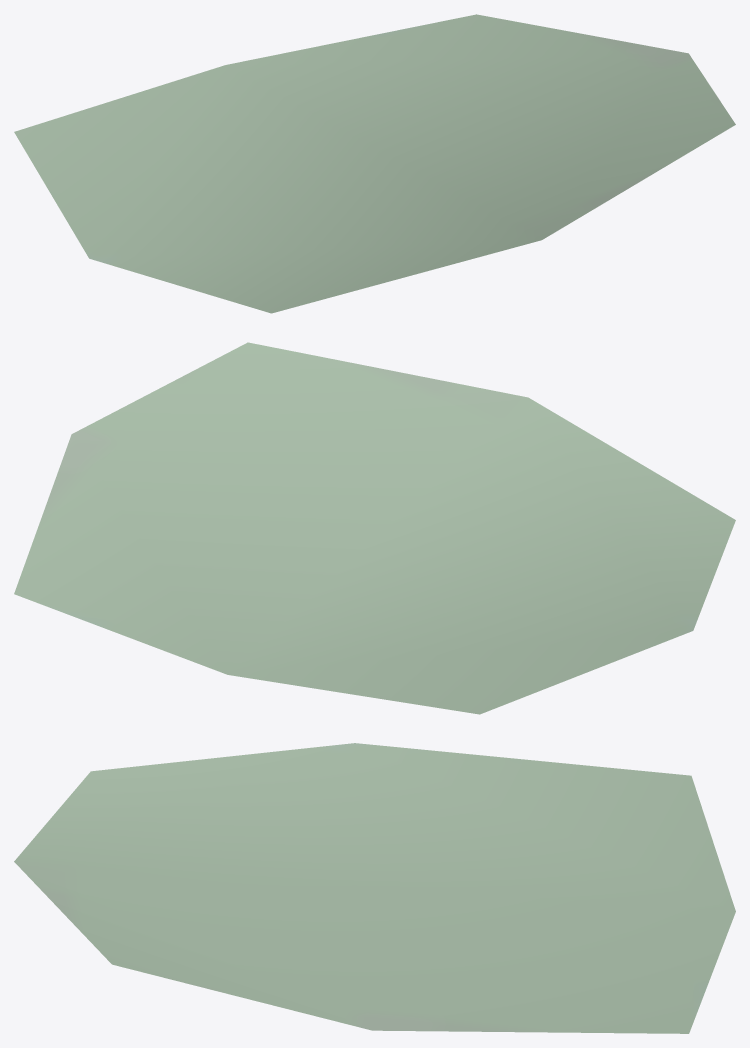
Rendered from TROLLHOLE02_HOLECAP34.fbx.
3 views of the same model, one above another, from view 1: azimuth 30°, elevation 25°; view 2: azimuth 150°, elevation 25°; view 3: azimuth 270°, elevation 25° (orthographic). The views are drawn at different scales.
Visible parts, largest first — view 1: TROLLHOLE02_HOLECAP34; view 2: TROLLHOLE02_HOLECAP34; view 3: TROLLHOLE02_HOLECAP34.
Boxes of the visible parts, left/top/right/bottom form: TROLLHOLE02_HOLECAP34: left=14, top=14, right=735, bottom=313; TROLLHOLE02_HOLECAP34: left=14, top=342, right=735, bottom=714; TROLLHOLE02_HOLECAP34: left=14, top=743, right=735, bottom=1033.
Size of the model in its own units: 25293 by 3062 by 22149.
Materials: 1 (1 with a texture image).
